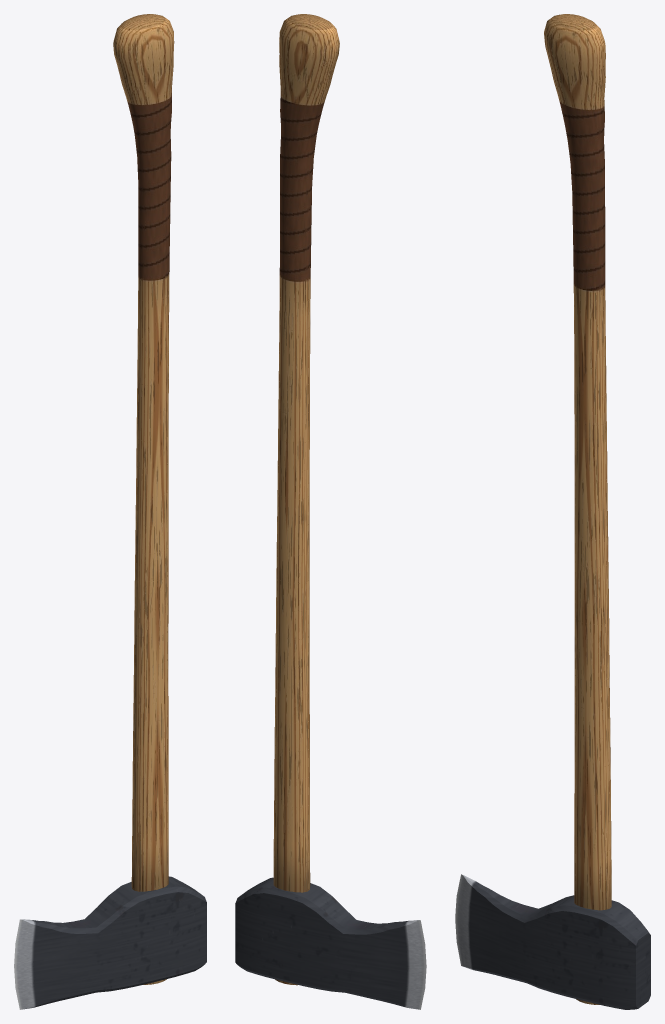
The model's file is axe.gltf.
The picture shows the model from 3 angles, left to right: view 1: azimuth 30°, elevation 25°; view 2: azimuth 150°, elevation 25°; view 3: azimuth 330°, elevation 25°; orthographic projection. The views are drawn at different scales.
Visible parts, largest first — view 1: Mesh; view 2: Mesh; view 3: Mesh.
Part boxes in pixels (x1,y1,x2,y2): Mesh: (14, 14, 206, 1009); Mesh: (235, 14, 426, 1009); Mesh: (455, 14, 650, 1009).
Size of the model in its own units: 0.221 by 1.1 by 0.0514.
Materials: 1 (1 with a texture image).
